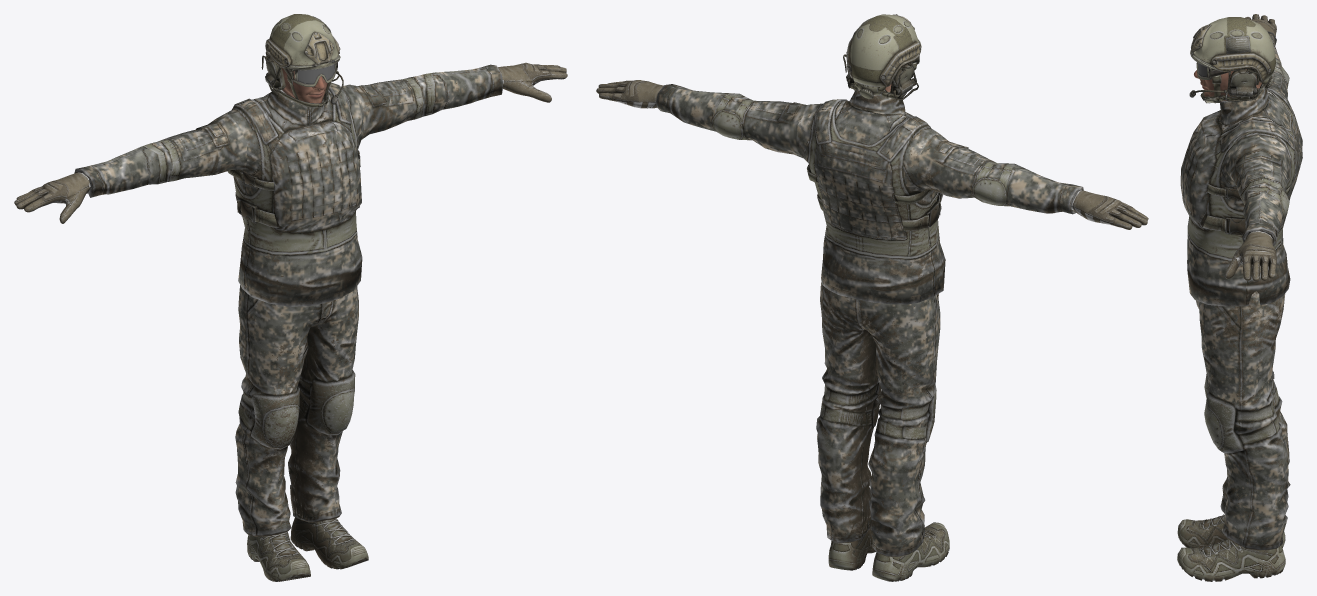
File: Tester.obj
3 views of the same model, side by side, from view 1: azimuth 30°, elevation 25°; view 2: azimuth 150°, elevation 25°; view 3: azimuth 270°, elevation 25° (orthographic).
Parts seen in each view (by area): view 1: Tops, Bottoms, Shoes, Hats, Gloves, Body, Eyewear; view 2: Tops, Bottoms, Hats, Shoes, Gloves; view 3: Tops, Bottoms, Hats, Shoes, Gloves, Body, Eyewear.
Part boxes in pixels (x1,y1,x2,y2): Tops: [74, 64, 503, 306]; Bottoms: [235, 285, 358, 536]; Shoes: [247, 517, 368, 581]; Hats: [261, 14, 343, 108]; Gloves: [14, 62, 567, 223]; Body: [282, 67, 327, 103]; Eyewear: [283, 62, 337, 86]; Tops: [656, 84, 1083, 304]; Bottoms: [816, 282, 940, 556]; Hats: [843, 14, 921, 100]; Shoes: [828, 522, 949, 581]; Gloves: [596, 80, 1148, 229]; Tops: [1180, 31, 1302, 306]; Bottoms: [1196, 291, 1290, 550]; Hats: [1189, 17, 1275, 103]; Shoes: [1177, 513, 1285, 581]; Gloves: [1225, 14, 1276, 281]; Body: [1194, 69, 1261, 101]; Eyewear: [1196, 62, 1254, 79].
Size of the model in its own units: 194 by 183 by 38.63.
Materials: 7 (7 with a texture image).
